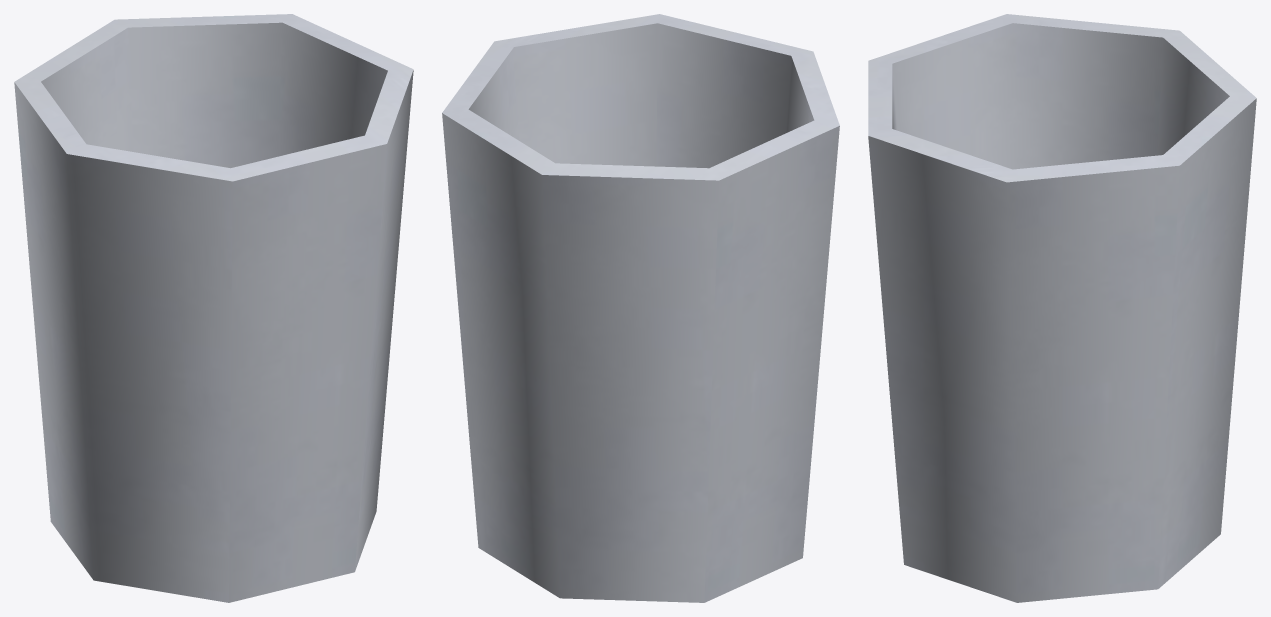
File: Vaso_01-col.glb
3 renders of one model, left to right at view 1: azimuth 30°, elevation 25°; view 2: azimuth 150°, elevation 25°; view 3: azimuth 270°, elevation 25°, orthographic.
Visible parts, largest first — view 1: Vaso_01-col; view 2: Vaso_01-col; view 3: Vaso_01-col.
Part boxes in pixels (left/top/right/bottom): Vaso_01-col: left=14, top=14, right=413, bottom=602; Vaso_01-col: left=442, top=14, right=839, bottom=602; Vaso_01-col: left=868, top=14, right=1256, bottom=602.
Bounding box in the file's own units: 0.1519 × 0.1841 × 0.1481.
Materials: 1 (1 with a texture image).
